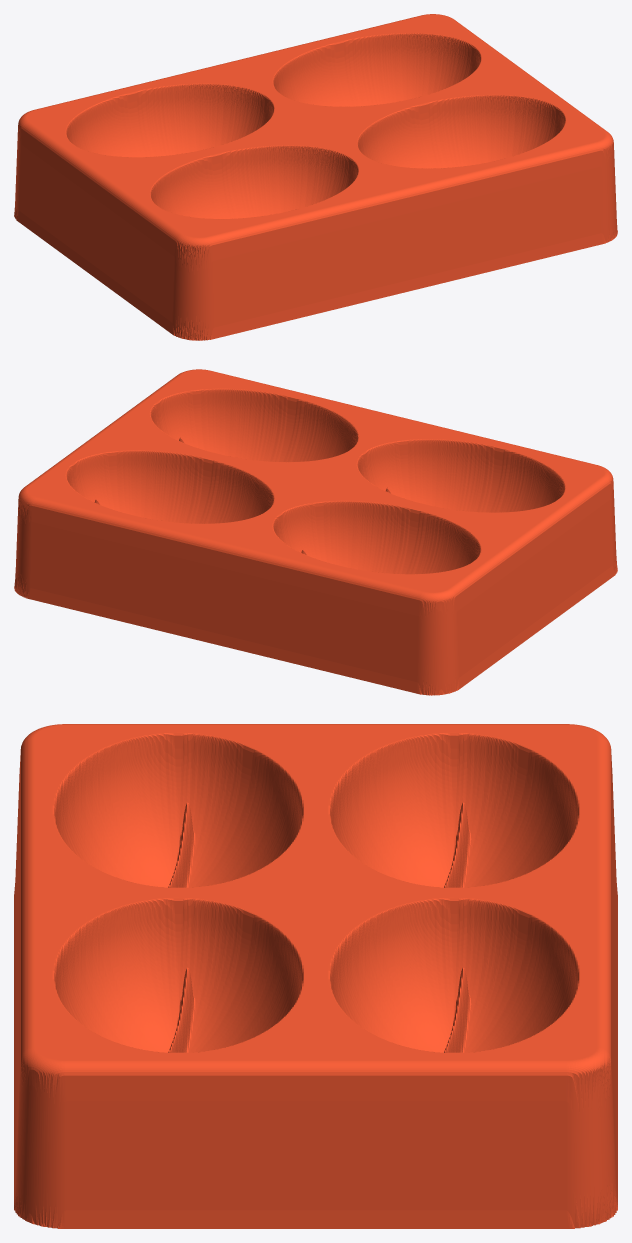
Rendered from mold.glb.
The picture shows the model from 3 angles, top to bottom: view 1: azimuth 30°, elevation 25°; view 2: azimuth 150°, elevation 25°; view 3: azimuth 270°, elevation 25°; orthographic projection. The views are drawn at different scales.
Parts seen in each view (by area): view 1: geometry_0; view 2: geometry_0; view 3: geometry_0.
Boxes of the visible parts, bbox=[...] form: geometry_0: bbox=[14, 14, 617, 340]; geometry_0: bbox=[14, 369, 617, 695]; geometry_0: bbox=[14, 724, 617, 1228].
Size of the model in its own units: 0.1466 by 0.031 by 0.1062.
